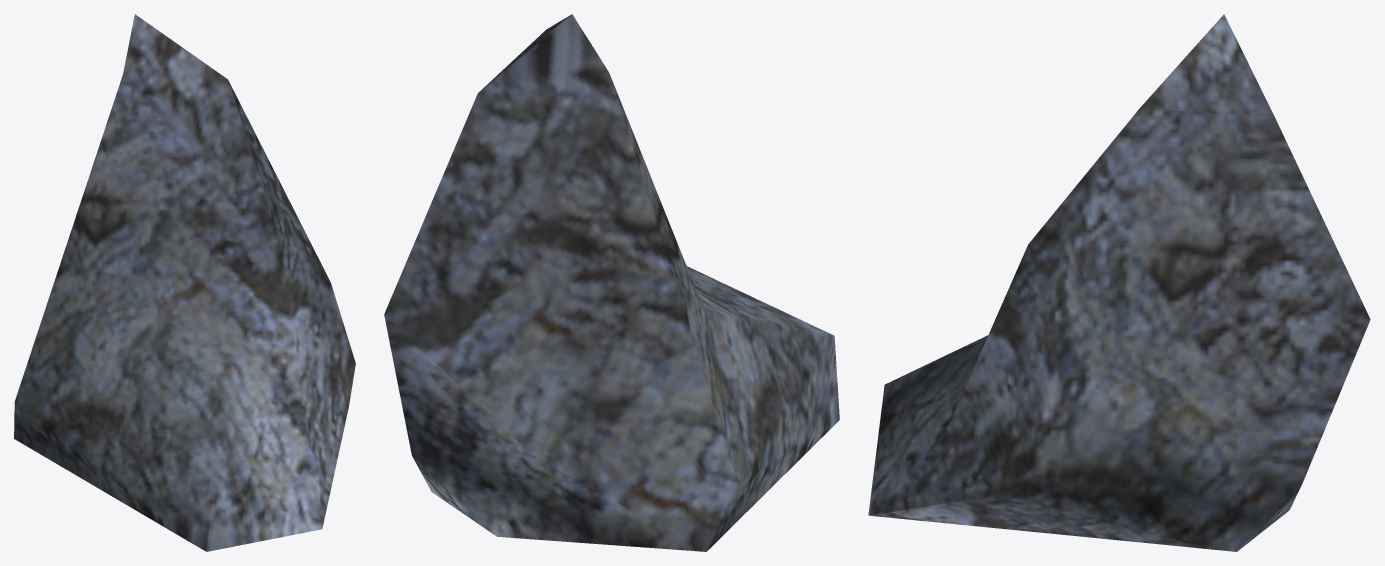
Rendered from Rock_3.fbx.
3 renders of one model, left to right at view 1: azimuth 30°, elevation 25°; view 2: azimuth 150°, elevation 25°; view 3: azimuth 270°, elevation 25°, orthographic. The views are drawn at different scales.
Parts seen in each view (by area): view 1: Detal334; view 2: Detal334; view 3: Detal334.
Boxes of the visible parts, bbox=[...] form: Detal334: bbox=[14, 14, 355, 551]; Detal334: bbox=[384, 14, 839, 551]; Detal334: bbox=[868, 14, 1370, 551].
Size of the model in its own units: 459 by 687 by 645.
